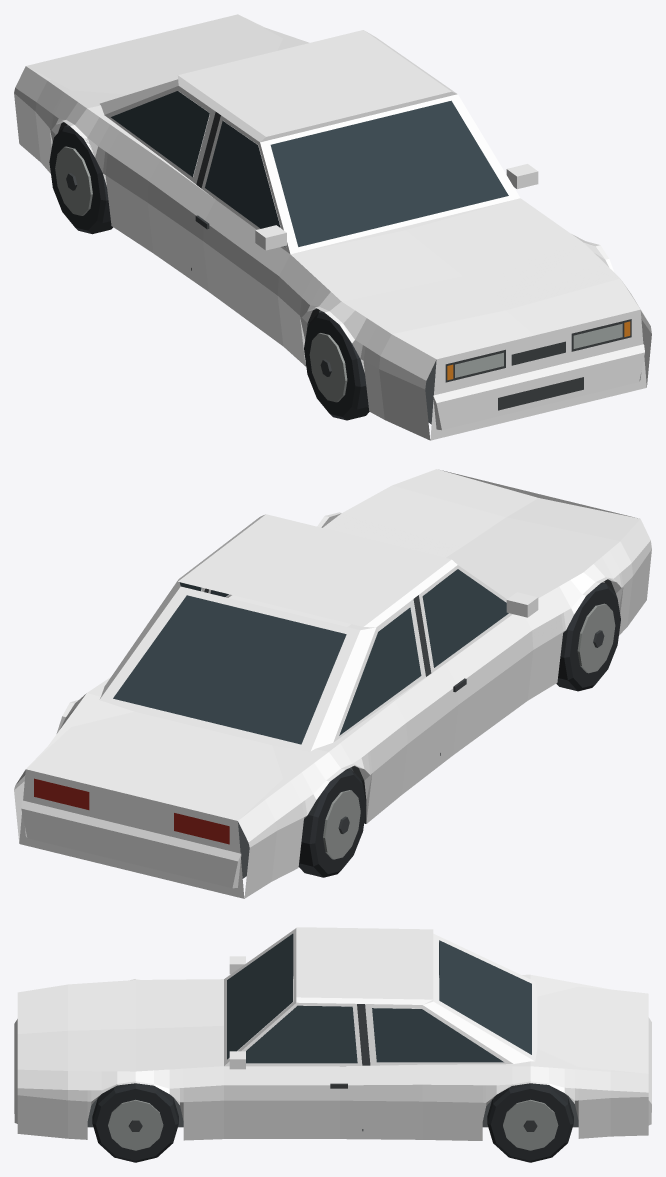
Rendered from kanaya_asakaze_gt_97.glb.
The picture shows the model from 3 angles, top to bottom: view 1: azimuth 30°, elevation 25°; view 2: azimuth 150°, elevation 25°; view 3: azimuth 270°, elevation 25°; orthographic projection. The views are drawn at different scales.
Parts seen in each view (by area): view 1: kanaya_asakaze_gt_97; view 2: kanaya_asakaze_gt_97; view 3: kanaya_asakaze_gt_97.
Part boxes in pixels (box(x1,y1,x2,y2)): kanaya_asakaze_gt_97: box(14, 14, 651, 440); kanaya_asakaze_gt_97: box(14, 469, 651, 898); kanaya_asakaze_gt_97: box(14, 927, 651, 1162).
Bounding box in the file's own units: 1.82 × 1.23 × 4.7.
Materials: 8 (1 with a texture image).
